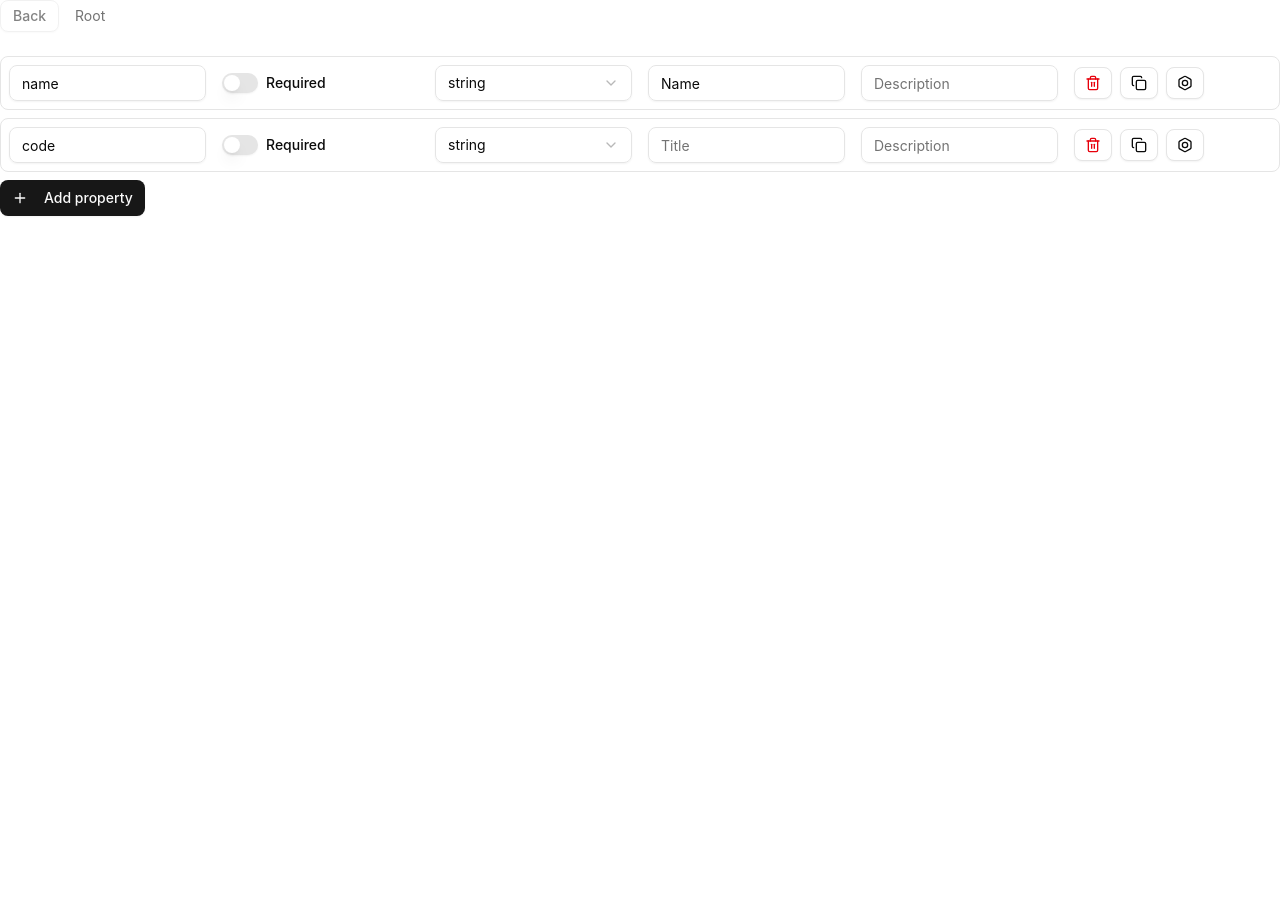
Scenario: names the Edit dialog after the property title, or its key
The width and height of the screenshot is (1280, 900).
Click the 1st button named "Edit constraints": (1185,83) [1166,67,1204,99]
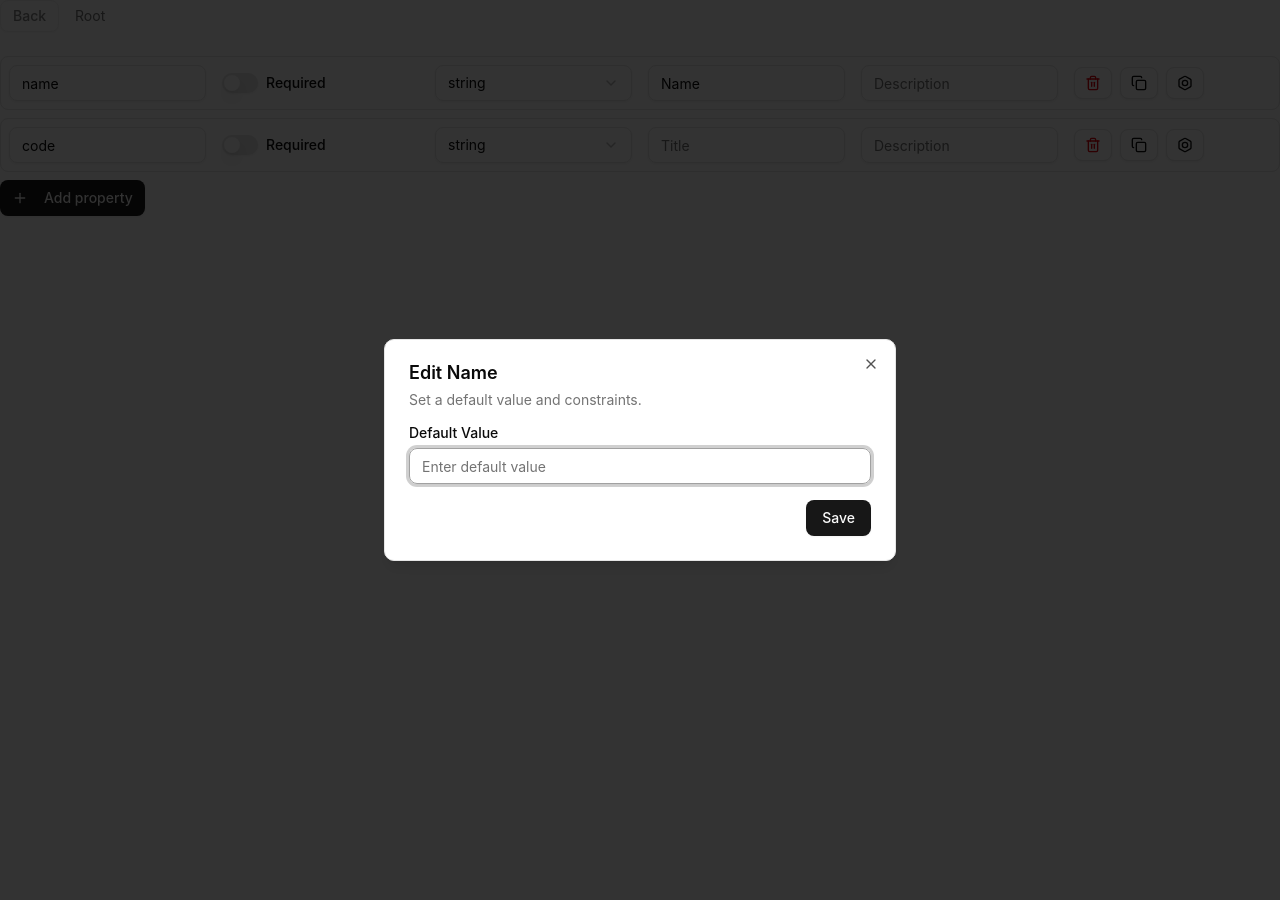
Press Escape
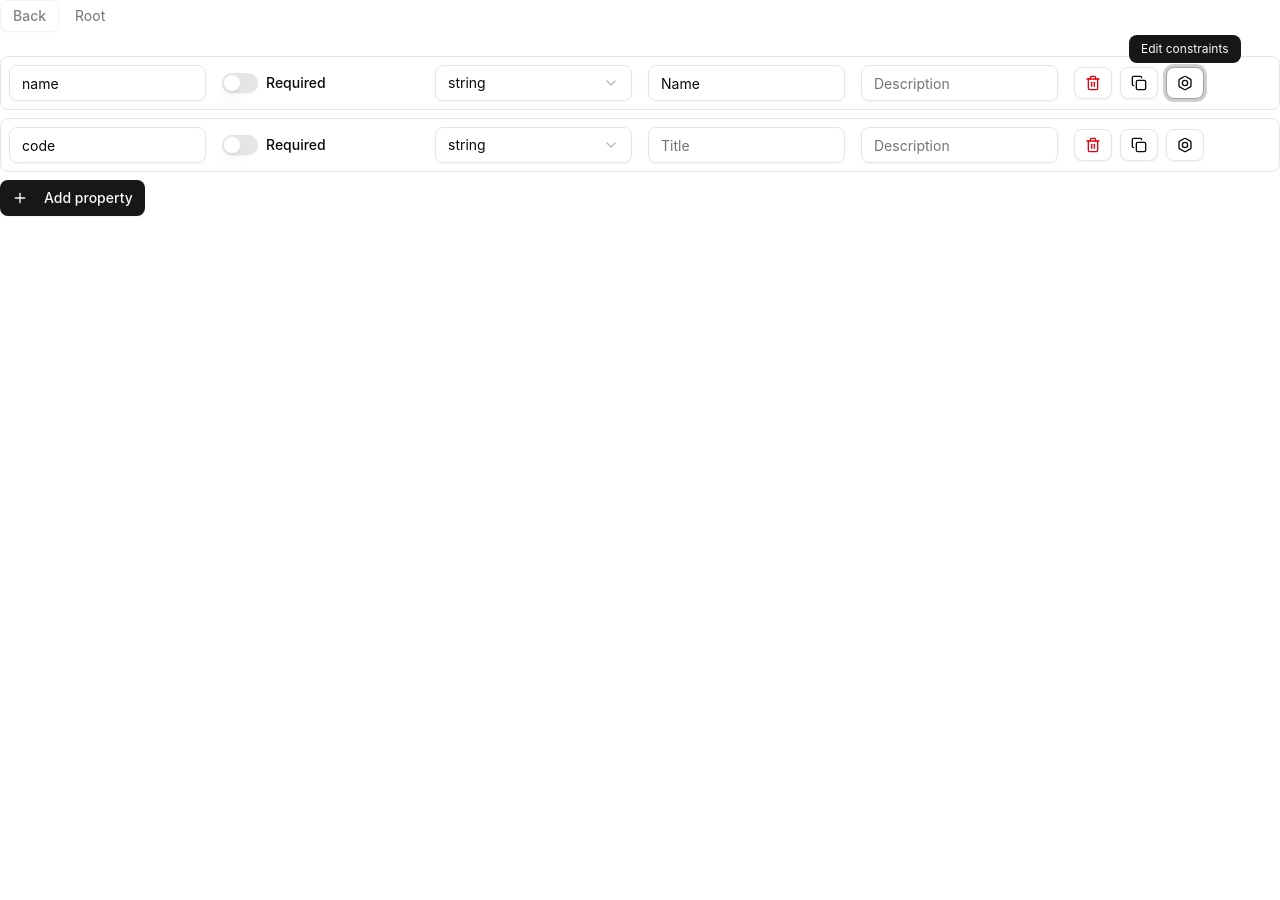
Click the 2nd button named "Edit constraints": (1185,145) [1166,129,1204,161]
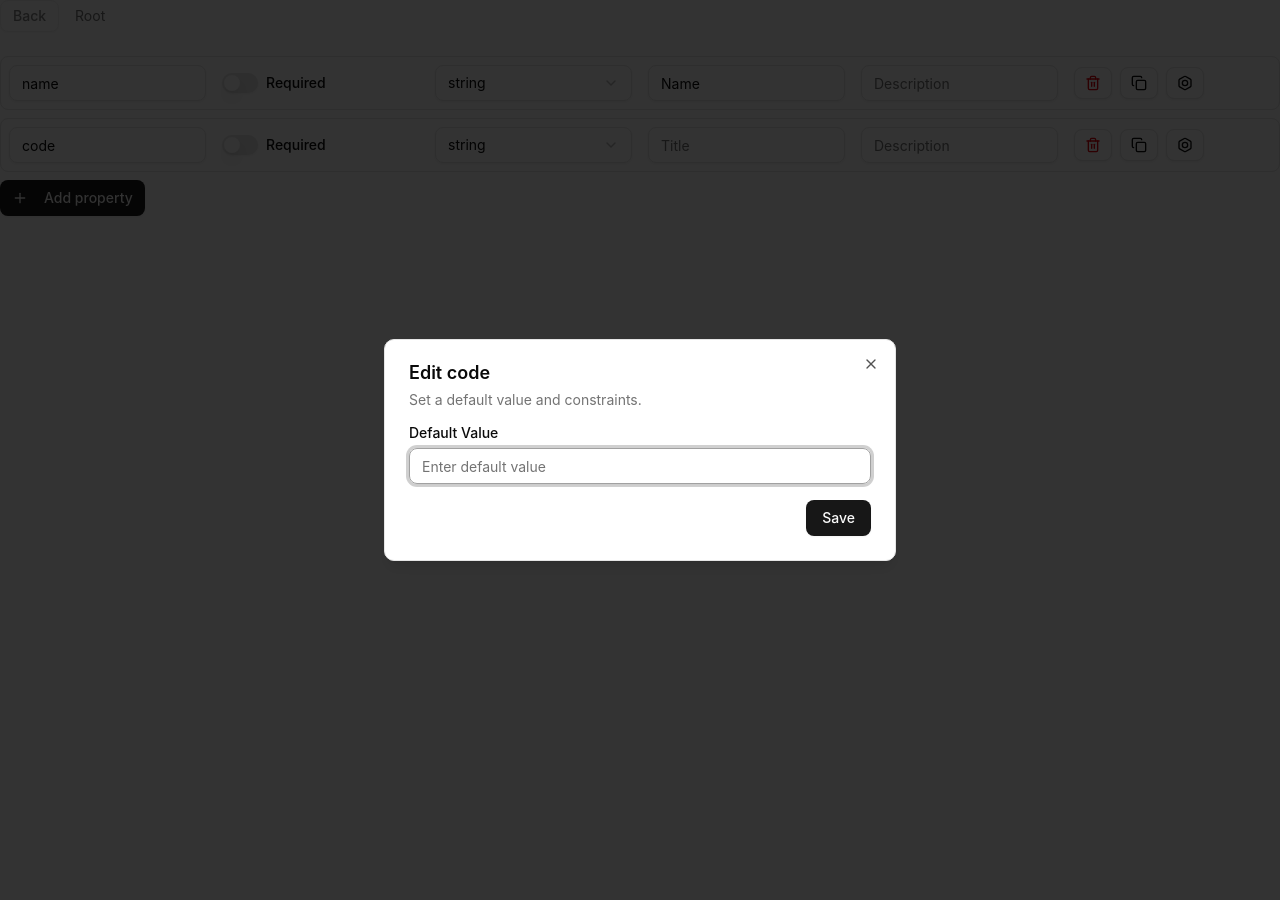
Now the dialog "Edit code" is shown, box [384,339,896,561]
